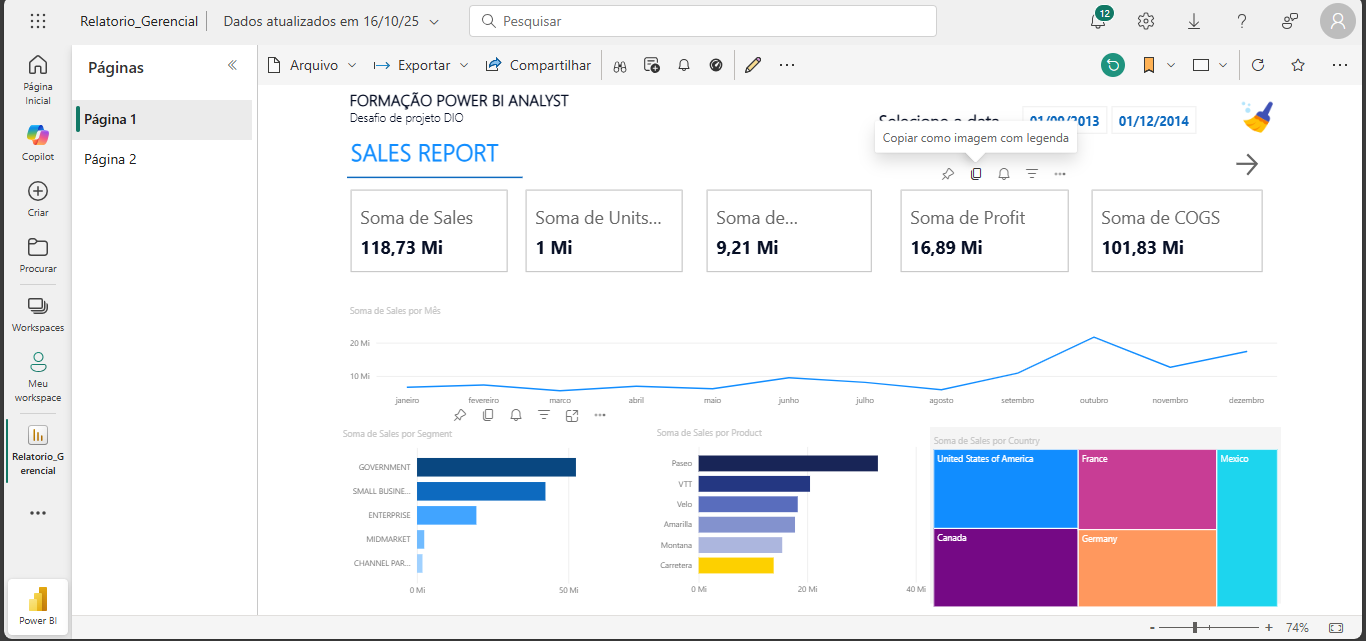

The page's visual inventory and layout, read from the dashboard file:
{"tool":"powerbi","page":{"name":"Página 1","canvas":[1280,720],"ordinal":0},"visuals":[{"type":"textbox","box":[10.1,0,381.3,68.9],"z":0},{"type":"group","id":"g1","title":"Grupo 1","box":[728.8,19,503.4,68.8],"z":0,"group":"g2"},{"type":"slicer","fields":{"Values":["financials.Date"]},"box":[916.1,19,316.1,68.8],"z":0,"group":"g1"},{"type":"clusteredBarChart","fields":{"Y":["Sum(financials.Sales)"],"Category":["financials.Segment"]},"box":[0,463.9,371.7,240],"z":0,"group":"g5"},{"type":"clusteredBarChart","fields":{"Y":["Sum(financials.Sales)"],"Category":["financials.Product"]},"box":[427.3,463.9,376.1,240],"z":0,"group":"g4"},{"type":"map","fields":{"Category":["financials.Country"],"Size":["Sum(financials.Sales)"]},"box":[803,464,477,240],"z":0,"group":"g3"},{"type":"actionButton","box":[1214.7,24.9,65.9,39.5],"z":1000,"group":"g2"},{"type":"textbox","box":[728.8,27.8,202,52.7],"z":1000,"group":"g1"},{"type":"lineChart","fields":{"Category":["financials.Date.Variation.Hierarquia de datas.Mês"],"Y":["Sum(financials.Sales)"]},"box":[10.1,297.3,1269.9,149.5],"z":1000},{"type":"treemap","title":"Soma de Sales por Country ","fields":{"Group":["financials.Country"],"Values":["Sum(financials.Sales)"]},"box":[803,474,477,240],"z":1000,"group":"g3"},{"type":"cardVisual","fields":{"Data":["Sum(financials.Sales)"]},"box":[10.2,137.6,223.9,122.9],"z":2000},{"type":"cardVisual","fields":{"Data":["Sum(financials.Units Sold)"]},"box":[248.8,137.6,223.9,122.9],"z":3000},{"type":"cardVisual","fields":{"Data":["Sum(financials.Discounts)"]},"box":[494.6,137.6,234.1,122.9],"z":4000},{"type":"cardVisual","fields":{"Data":["Sum(financials.Profit)"]},"box":[758,137.6,238.5,122.9],"z":5000},{"type":"cardVisual","fields":{"Data":["Sum(financials.COGS)"]},"box":[1017.1,137.6,242.9,122.9],"z":6000},{"type":"textbox","box":[10.2,64.4,439,73.2],"z":7000},{"type":"shape","box":[10.2,99.5,238.5,52.7],"z":8000},{"type":"image","title":"Limpar","box":[1214.6,7.3,65.9,73.2],"z":9000},{"type":"group","id":"g2","title":"Filtro por data","box":[728.8,19,551.7,68.8],"z":10000},{"type":"group","id":"g3","title":"Sales x Country","box":[803,464,477,250],"z":11000},{"type":"group","id":"g4","title":"Sales x Product","box":[427.2,463.9,376.2,241.9],"z":12000},{"type":"group","id":"g5","title":"Sales x Segment","box":[0,461.4,371.7,242.5],"z":13000},{"type":"actionButton","title":"Próxima Página","box":[1213.2,87.8,67.3,39.5],"z":14000}]}

Visuals, with their boxes on the page's 1280x720 design canvas (x1, y1, x2, y2). These are canvas units, not pixel positions in the 1366x641 screenshot, which may show the page scaled, cropped or inside an application window:
textbox: <box>10,0,391,69</box>
"Grupo 1" group: <box>729,19,1232,88</box>
slicer - financials.Date: <box>916,19,1232,88</box>
clusteredBarChart - Sum(financials.Sales) x financials.Segment: <box>0,464,372,704</box>
clusteredBarChart - Sum(financials.Sales) x financials.Product: <box>427,464,803,704</box>
map - financials.Country x Sum(financials.Sales): <box>803,464,1280,704</box>
actionButton: <box>1215,25,1281,64</box>
textbox: <box>729,28,931,80</box>
lineChart - financials.Date.Variation.Hierarquia de datas.Mês x Sum(financials.Sales): <box>10,297,1280,447</box>
"Soma de Sales por Country " treemap: <box>803,474,1280,714</box>
cardVisual - Sum(financials.Sales): <box>10,138,234,260</box>
cardVisual - Sum(financials.Units Sold): <box>249,138,473,260</box>
cardVisual - Sum(financials.Discounts): <box>495,138,729,260</box>
cardVisual - Sum(financials.Profit): <box>758,138,996,260</box>
cardVisual - Sum(financials.COGS): <box>1017,138,1260,260</box>
textbox: <box>10,64,449,138</box>
shape: <box>10,100,249,152</box>
"Limpar" image: <box>1215,7,1280,80</box>
"Filtro por data" group: <box>729,19,1280,88</box>
"Sales x Country" group: <box>803,464,1280,714</box>
"Sales x Product" group: <box>427,464,803,706</box>
"Sales x Segment" group: <box>0,461,372,704</box>
"Próxima Página" actionButton: <box>1213,88,1280,127</box>
